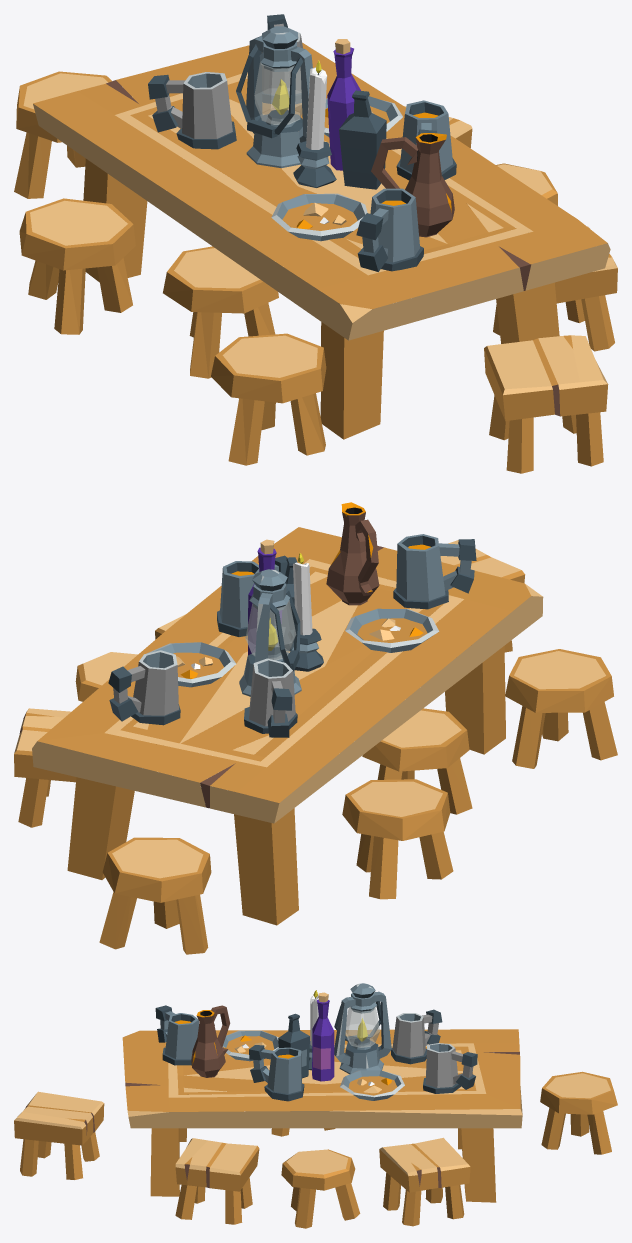
File: Bar Table.glb
3 views of the same model, one above another, from view 1: azimuth 30°, elevation 25°; view 2: azimuth 150°, elevation 25°; view 3: azimuth 270°, elevation 25° (orthographic). The views are drawn at different scales.
Visible parts, largest first — view 1: group57482883, group1422921269, group1736478075, group41030402, group1523682768, group1612428362, group1290912154, group330241672, group734222387, group406415189, group1261245263, group1280995885 (+7 smaller); view 2: group57482883, group330241672, group41030402, group1736478075, group1612428362, group1523682768, group734222387, group1698681086, group406415189, group1627728751, group1290912154, group1280995885 (+7 smaller); view 3: group57482883, group1627728751, group1422921269, group1261245263, group330241672, group1523682768, group1294191787, group409571200, group1698681086, group1290912154, group406415189, group734222387 (+5 smaller).
Boxes of the visible parts, x1,y1,x2,y2 form: group57482883: [33, 43, 610, 439]; group1422921269: [484, 335, 608, 473]; group1736478075: [19, 198, 135, 334]; group41030402: [211, 333, 326, 465]; group1523682768: [236, 26, 312, 168]; group1612428362: [163, 246, 278, 378]; group1290912154: [148, 72, 236, 149]; group330241672: [14, 71, 111, 198]; group734222387: [356, 188, 423, 271]; group406415189: [371, 133, 454, 237]; group1261245263: [493, 226, 617, 351]; group1280995885: [271, 193, 367, 241]; group57482883: [32, 527, 543, 925]; group330241672: [99, 837, 211, 954]; group41030402: [505, 649, 617, 768]; group1736478075: [342, 779, 453, 899]; group1612428362: [362, 708, 472, 814]; group1523682768: [239, 569, 301, 696]; group734222387: [393, 534, 476, 609]; group1698681086: [108, 650, 180, 725]; group406415189: [326, 502, 379, 605]; group1627728751: [14, 708, 76, 827]; group1290912154: [244, 658, 297, 737]; group1280995885: [345, 608, 439, 652]; group57482883: [122, 1029, 522, 1202]; group1627728751: [379, 1137, 470, 1226]; group1422921269: [14, 1091, 104, 1179]; group1261245263: [175, 1138, 259, 1224]; group330241672: [540, 1071, 617, 1154]; group1523682768: [334, 983, 391, 1074]; group1294191787: [281, 1149, 360, 1228]; group409571200: [249, 1045, 304, 1101]; group1698681086: [423, 1043, 477, 1093]; group1290912154: [391, 1009, 442, 1064]; group406415189: [191, 1005, 230, 1077]; group734222387: [155, 1005, 198, 1065].
Bounding box in the file's own units: 1.87 × 1.11 × 3.24.
